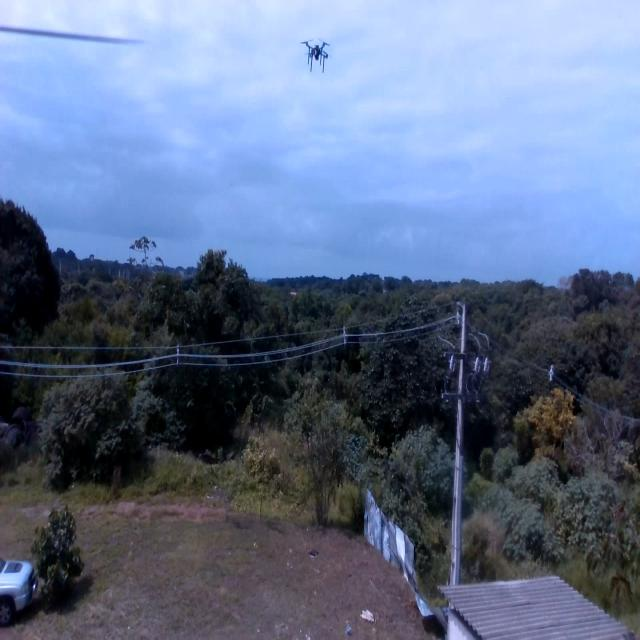-uav-: (301, 27, 334, 82)
